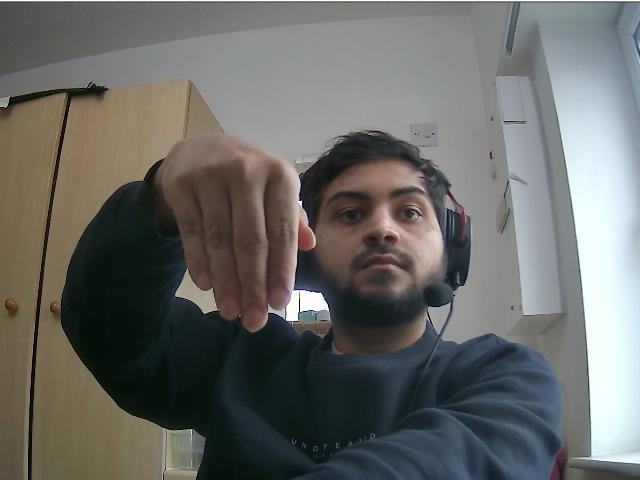down: (158, 129, 318, 334)
